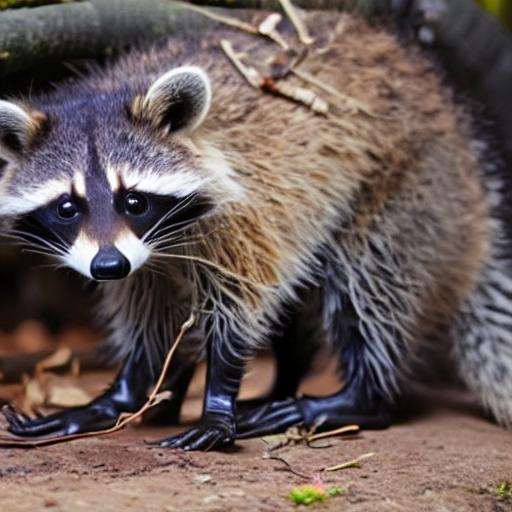raccoon: (0, 15, 504, 363)
